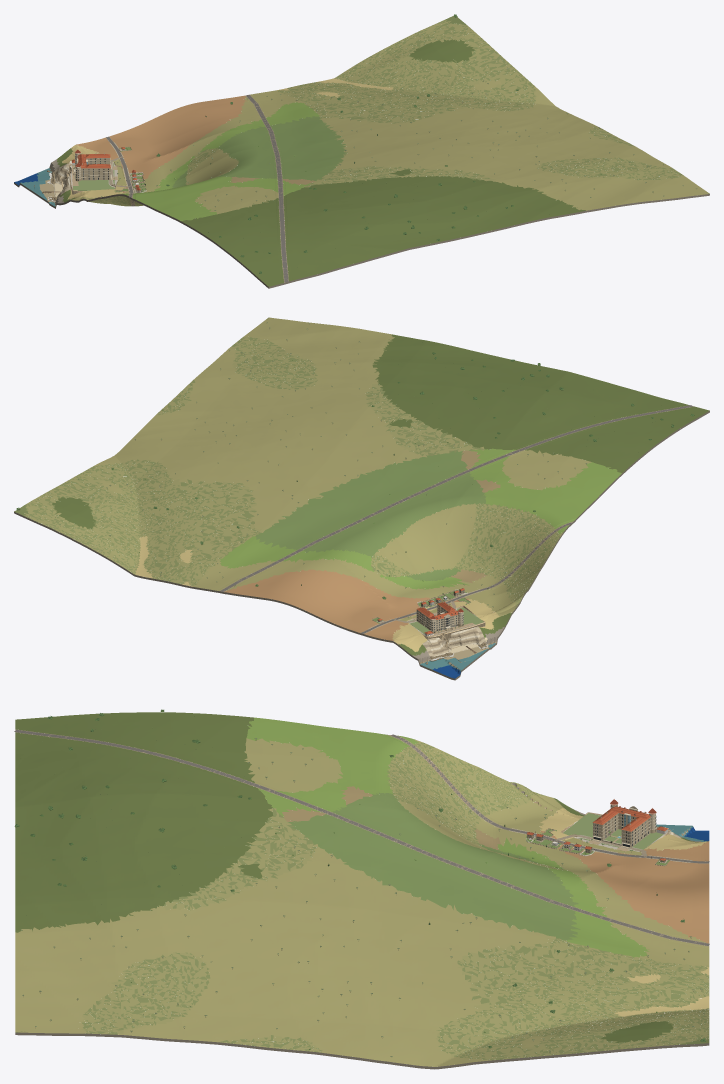
Rendered from parca_+0_-7-yakin.glb.
The picture shows the model from 3 angles, top to bottom: view 1: azimuth 30°, elevation 25°; view 2: azimuth 150°, elevation 25°; view 3: azimuth 270°, elevation 25°; orthographic projection. The views are drawn at different scales.
Parts seen in each view (by area): view 1: parca_+0_-7_arazi, parca_+0_-7_yapilar, parca_+0_-7_yollar, parca_+0_-7_bitkiler; view 2: parca_+0_-7_arazi, parca_+0_-7_yollar, parca_+0_-7_yapilar, parca_+0_-7_bitkiler, parca_+0_-7_imperial_ucurum; view 3: parca_+0_-7_arazi, parca_+0_-7_yollar, parca_+0_-7_yapilar, parca_+0_-7_bitkiler.
Part boxes in pixels (<box>): parca_+0_-7_arazi: <box>14,15,709,288</box>; parca_+0_-7_yapilar: <box>69,147,140,193</box>; parca_+0_-7_yollar: <box>62,95,288,282</box>; parca_+0_-7_bitkiler: <box>95,14,696,273</box>; parca_+0_-7_arazi: <box>14,317,709,680</box>; parca_+0_-7_yollar: <box>221,405,692,648</box>; parca_+0_-7_yapilar: <box>376,588,483,637</box>; parca_+0_-7_bitkiler: <box>16,322,694,618</box>; parca_+0_-7_imperial_ucurum: <box>426,627,481,656</box>; parca_+0_-7_arazi: <box>15,712,709,1069</box>; parca_+0_-7_yollar: <box>14,730,709,945</box>; parca_+0_-7_yapilar: <box>526,799,670,863</box>; parca_+0_-7_bitkiler: <box>14,709,705,1056</box>.
Bounding box in the file's own units: 1003 × 211 × 1003.
